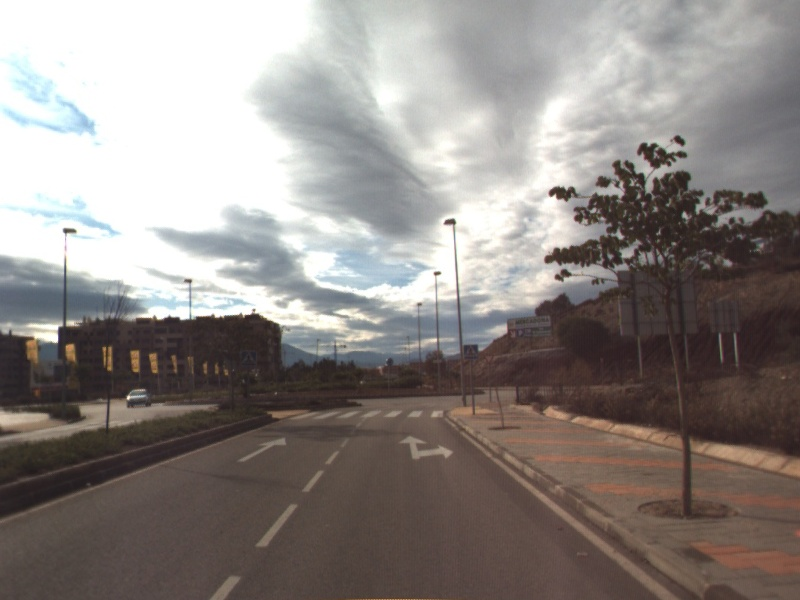STRAIGHT: (235, 435, 288, 464)
STRAIGHT_RIGHT: (397, 433, 456, 462)
